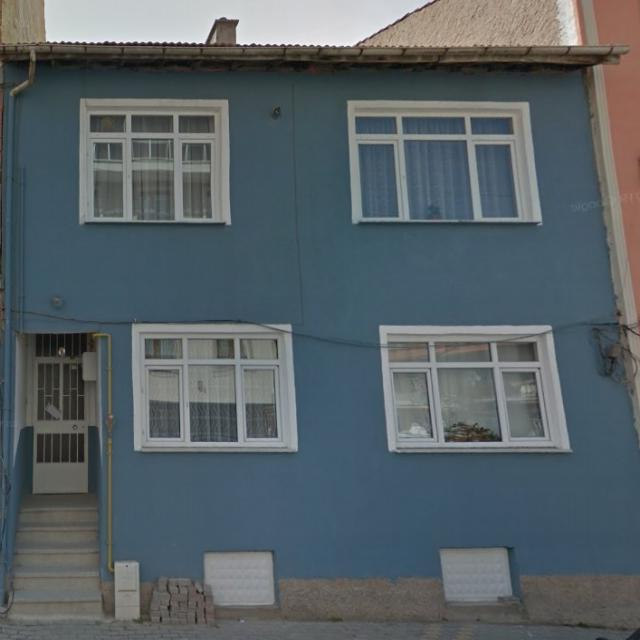Building: (1, 42, 640, 628)
